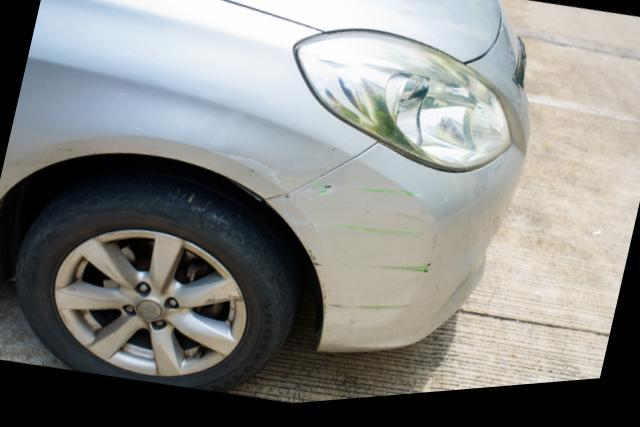scratch: (265, 187, 438, 322), (203, 150, 306, 198)
